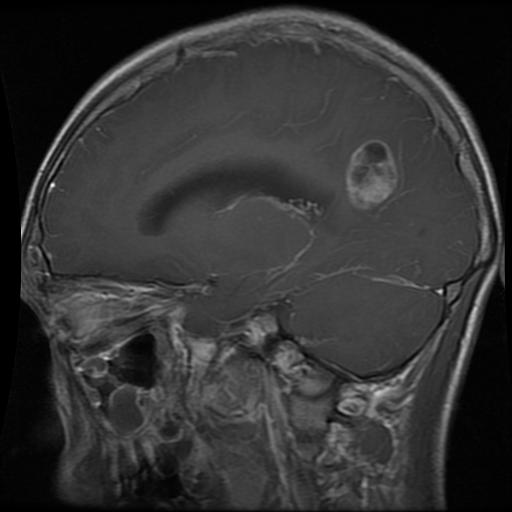Gliomia_tumour: (345, 136, 398, 211)
